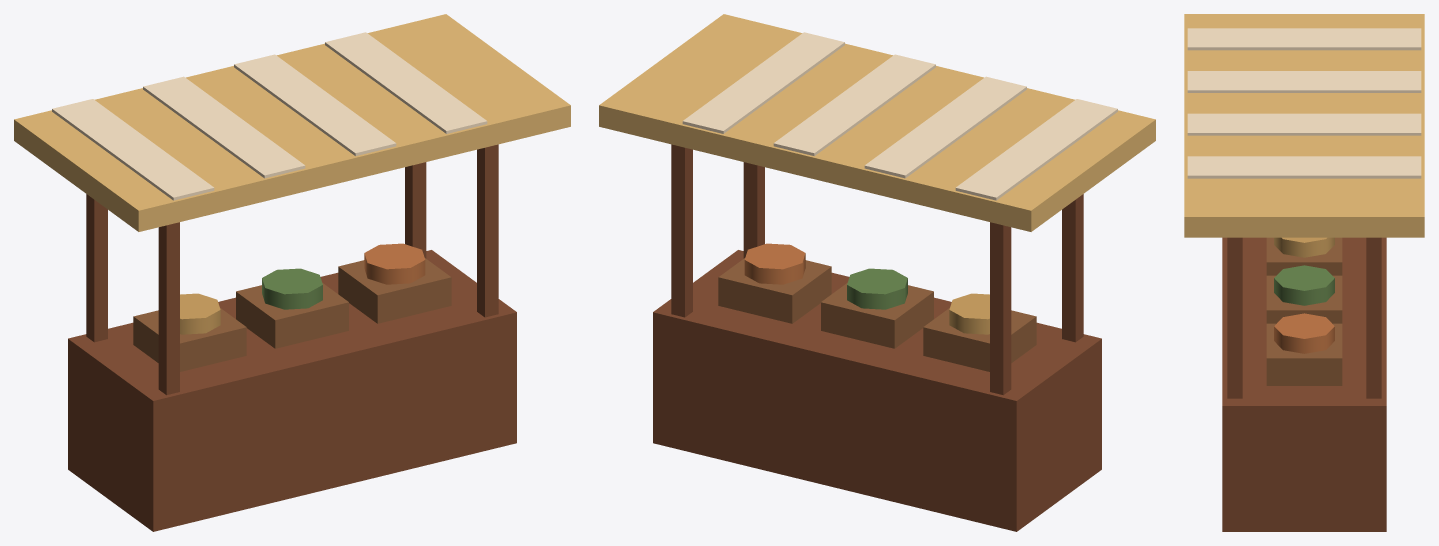
The model's file is ingredient_stall.glb.
The picture shows the model from 3 angles, left to right: view 1: azimuth 30°, elevation 25°; view 2: azimuth 150°, elevation 25°; view 3: azimuth 270°, elevation 25°; orthographic projection. The views are drawn at different scales.
Visible parts, largest first — view 1: _MeshInstance3D_238, _MeshInstance3D_245, _MeshInstance3D_247, _MeshInstance3D_248, _MeshInstance3D_246, _MeshInstance3D_249, _MeshInstance3D_254, _MeshInstance3D_252, _MeshInstance3D_244, _MeshInstance3D_242, _MeshInstance3D_250, _MeshInstance3D_241 (+4 smaller); view 2: _MeshInstance3D_238, _MeshInstance3D_245, _MeshInstance3D_247, _MeshInstance3D_248, _MeshInstance3D_246, _MeshInstance3D_249, _MeshInstance3D_254, _MeshInstance3D_252, _MeshInstance3D_243, _MeshInstance3D_241, _MeshInstance3D_250, _MeshInstance3D_242 (+4 smaller); view 3: _MeshInstance3D_245, _MeshInstance3D_238, _MeshInstance3D_249, _MeshInstance3D_246, _MeshInstance3D_248, _MeshInstance3D_247, _MeshInstance3D_254, _MeshInstance3D_243, _MeshInstance3D_244, _MeshInstance3D_253, _MeshInstance3D_255, _MeshInstance3D_252 (+2 smaller).
Boxes of the visible parts, left/top/right/bottom form: _MeshInstance3D_238: left=68, top=250, right=516, bottom=531; _MeshInstance3D_245: left=14, top=14, right=570, bottom=231; _MeshInstance3D_247: left=143, top=76, right=305, bottom=178; _MeshInstance3D_248: left=234, top=54, right=396, bottom=156; _MeshInstance3D_246: left=52, top=99, right=214, bottom=200; _MeshInstance3D_249: left=325, top=32, right=487, bottom=133; _MeshInstance3D_254: left=338, top=258, right=451, bottom=323; _MeshInstance3D_252: left=236, top=283, right=348, bottom=348; _MeshInstance3D_244: left=477, top=144, right=498, bottom=317; _MeshInstance3D_242: left=158, top=222, right=179, bottom=395; _MeshInstance3D_250: left=133, top=308, right=246, bottom=371; _MeshInstance3D_241: left=86, top=194, right=107, bottom=342; _MeshInstance3D_238: left=653, top=250, right=1101, bottom=531; _MeshInstance3D_245: left=599, top=14, right=1155, bottom=231; _MeshInstance3D_247: left=864, top=76, right=1026, bottom=178; _MeshInstance3D_248: left=773, top=54, right=935, bottom=156; _MeshInstance3D_246: left=955, top=99, right=1117, bottom=200; _MeshInstance3D_249: left=682, top=32, right=844, bottom=133; _MeshInstance3D_254: left=718, top=258, right=831, bottom=323; _MeshInstance3D_252: left=821, top=283, right=933, bottom=348; _MeshInstance3D_243: left=671, top=144, right=692, bottom=317; _MeshInstance3D_241: left=990, top=222, right=1011, bottom=395; _MeshInstance3D_250: left=923, top=308, right=1036, bottom=371; _MeshInstance3D_242: left=1062, top=194, right=1083, bottom=342; _MeshInstance3D_245: left=1184, top=14, right=1424, bottom=237; _MeshInstance3D_238: left=1222, top=237, right=1386, bottom=531; _MeshInstance3D_249: left=1187, top=156, right=1421, bottom=178; _MeshInstance3D_246: left=1187, top=28, right=1421, bottom=50; _MeshInstance3D_248: left=1187, top=113, right=1421, bottom=135; _MeshInstance3D_247: left=1187, top=71, right=1421, bottom=92; _MeshInstance3D_254: left=1266, top=323, right=1342, bottom=385; _MeshInstance3D_243: left=1366, top=237, right=1381, bottom=398; _MeshInstance3D_244: left=1227, top=237, right=1242, bottom=398; _MeshInstance3D_253: left=1274, top=265, right=1334, bottom=305; _MeshInstance3D_255: left=1274, top=313, right=1334, bottom=353; _MeshInstance3D_252: left=1266, top=275, right=1342, bottom=323.
Bounding box in the file's own units: 3.8 × 2.92 × 1.9.
